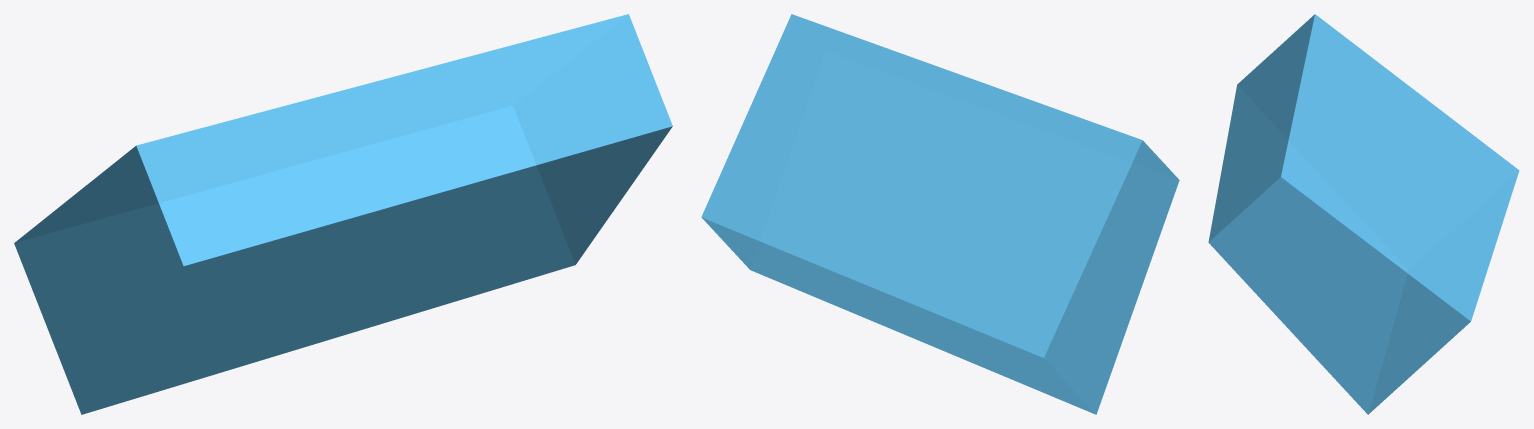
Rendered from Event_421115418_HErechit_102.fbx.
3 renders of one model, left to right at view 1: azimuth 30°, elevation 25°; view 2: azimuth 150°, elevation 25°; view 3: azimuth 270°, elevation 25°, orthographic. The views are drawn at different scales.
Parts seen in each view (by area): view 1: Model; view 2: Model; view 3: Model.
Boxes of the visible parts, <box> form: Model: <box>14,14,672,414</box>; Model: <box>701,14,1179,414</box>; Model: <box>1208,14,1519,414</box>.
Size of the model in its own units: 0.8416 by 0.5855 by 0.5855.
